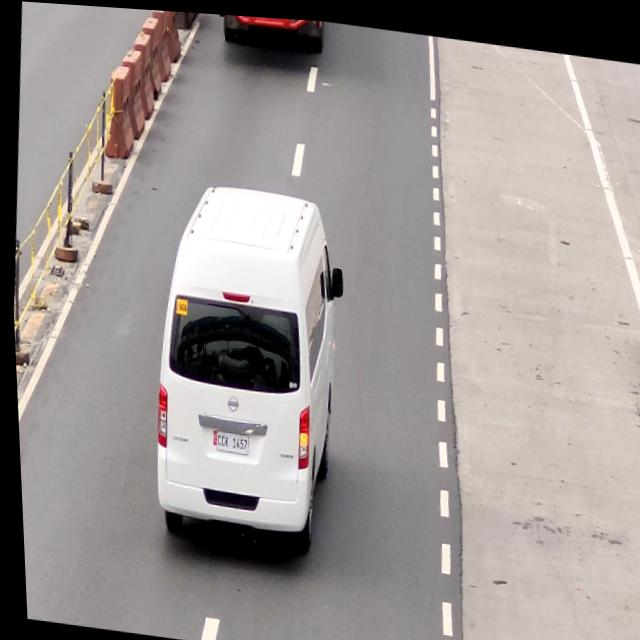Car: (146, 170, 349, 554)
License-Plate: (206, 424, 247, 453)
